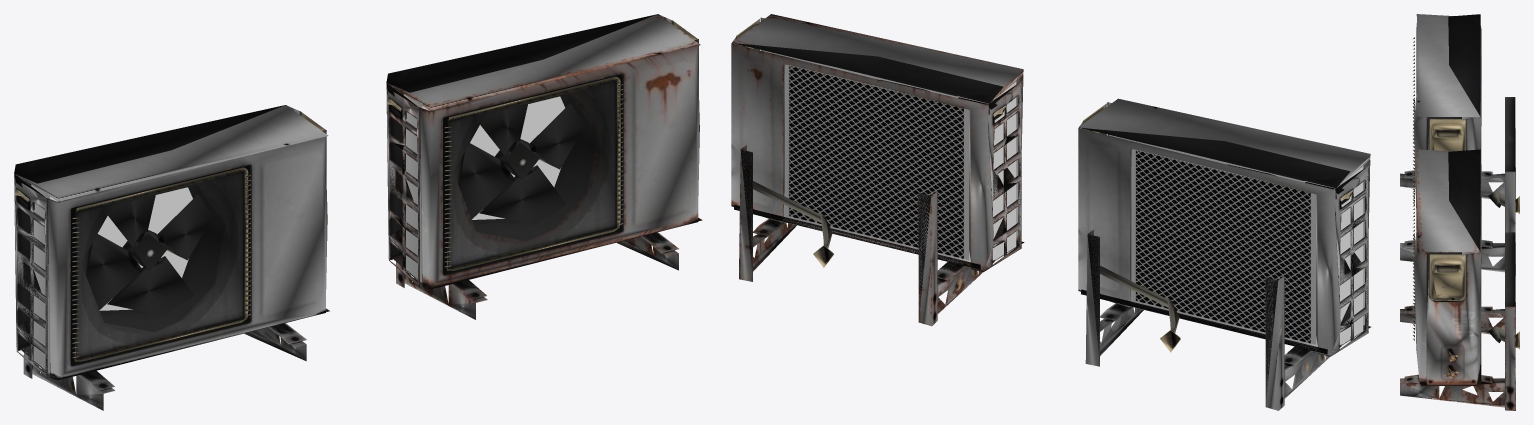
The model's file is exterior_aircon_unit.glb.
3 renders of one model, left to right at view 1: azimuth 30°, elevation 25°; view 2: azimuth 150°, elevation 25°; view 3: azimuth 270°, elevation 25°, orthographic. The views are drawn at different scales.
Visible parts, largest first — view 1: exterior_aircon_unit, exterior_aircon_unit_rusted; view 2: exterior_aircon_unit_rusted, exterior_aircon_unit; view 3: exterior_aircon_unit_rusted, exterior_aircon_unit.
Boxes of the visible parts, x1=… form: exterior_aircon_unit: x1=14, y1=105, x2=329, y2=410; exterior_aircon_unit_rusted: x1=386, y1=14, x2=702, y2=319; exterior_aircon_unit_rusted: x1=731, y1=14, x2=1024, y2=326; exterior_aircon_unit: x1=1078, y1=98, x2=1370, y2=410; exterior_aircon_unit_rusted: x1=1400, y1=149, x2=1519, y2=410; exterior_aircon_unit: x1=1400, y1=14, x2=1519, y2=275.
Size of the model in its own units: 1.8 by 0.6028 by 0.3742.
4 materials, 4 textured.
